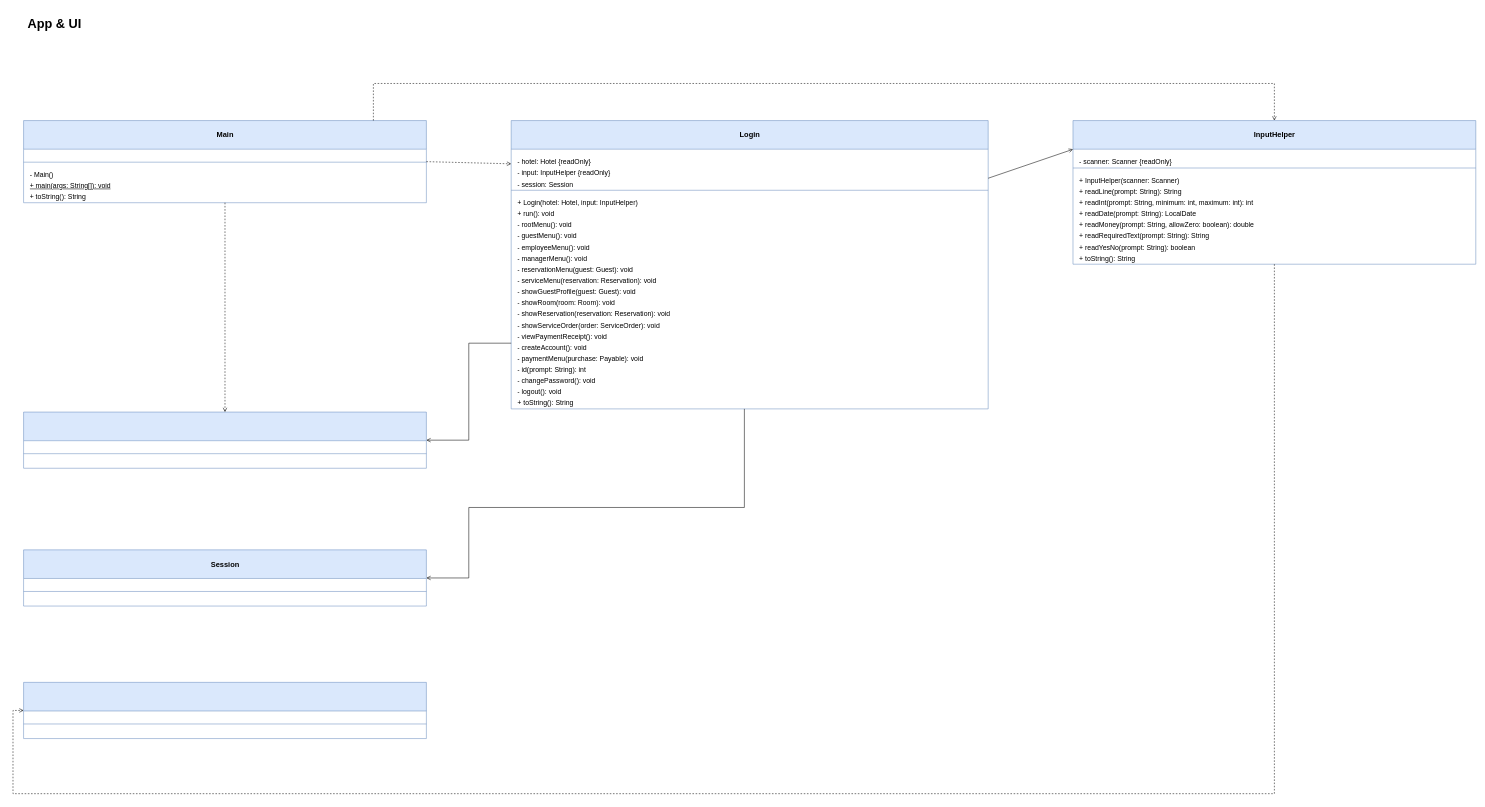
Some shapes in this 1485 by 807 pixel diagram are drawn without their labels. Here are the shapes that lost their labels. From the top down, the centre of each, then its label:
the point at 224,440: Hotel
the point at 224,710: ExitRequestedException
